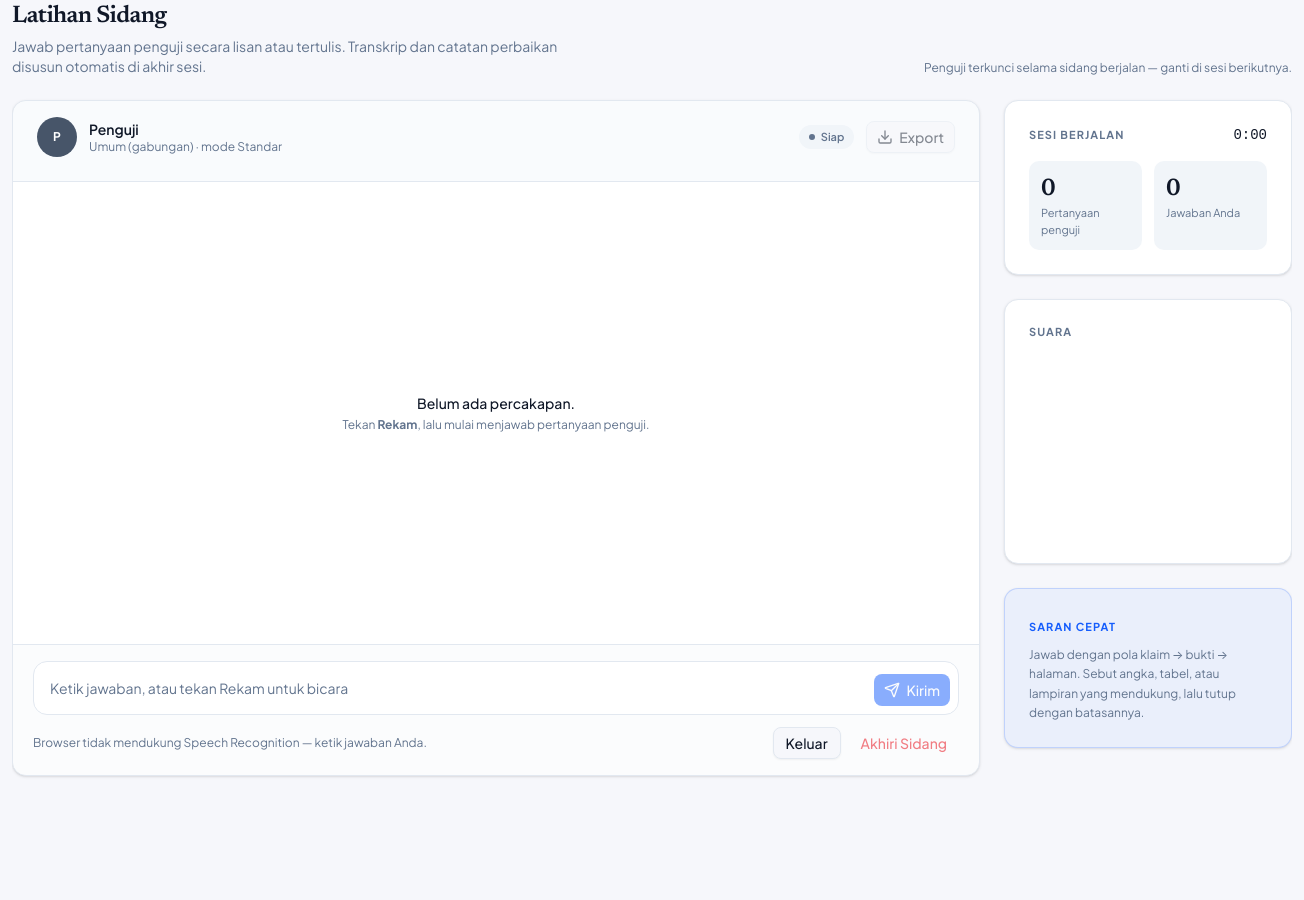
SessionPage › surfaces a send failure as a banner above the page heading
In the text box with placeholder "Ketik jawaban, atau tekan Rekam untuk bicara": [454, 688] box [42,670,866,706], type "x"
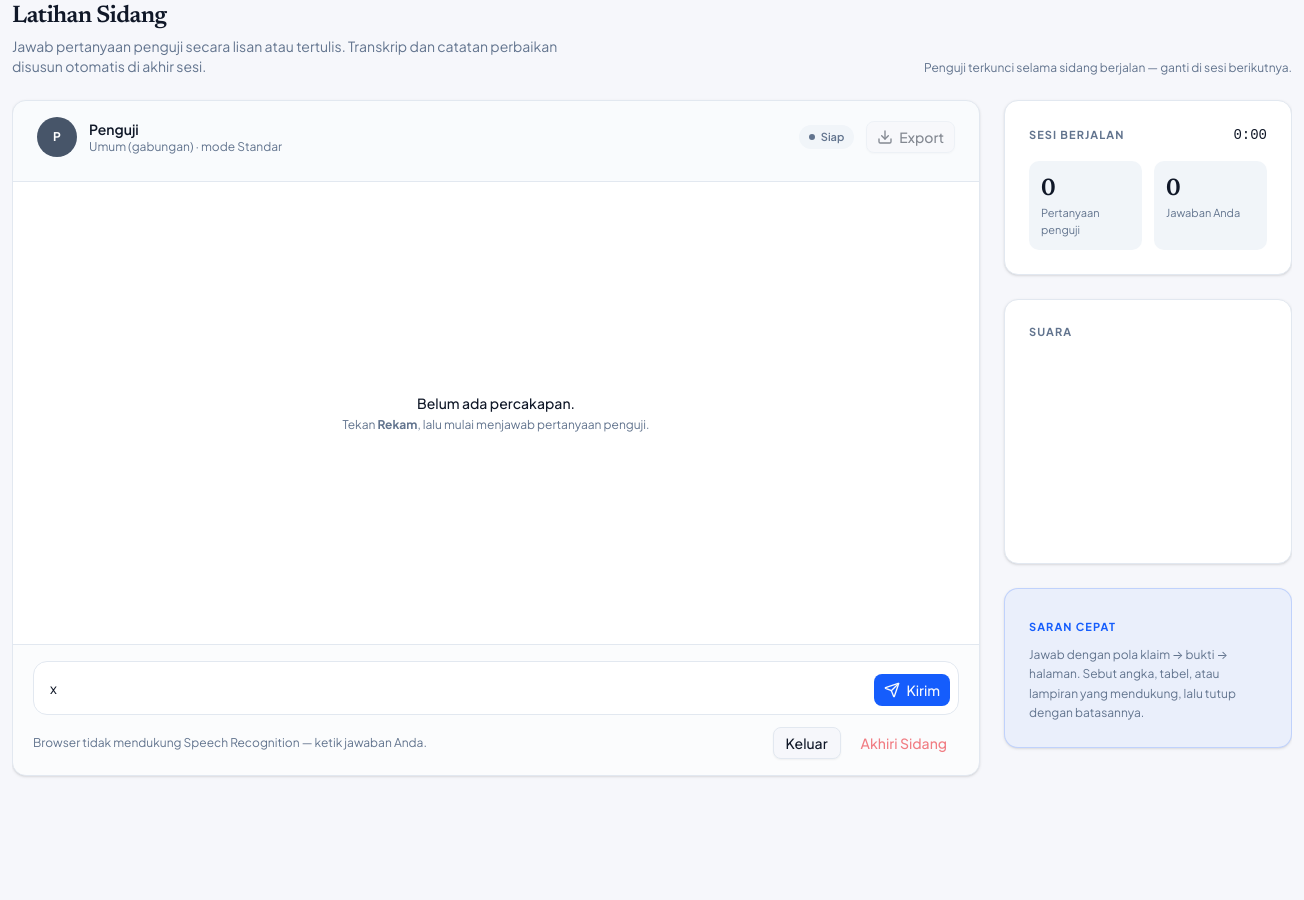
Click the button "Kirim": [912, 690] box [874,674,950,706]
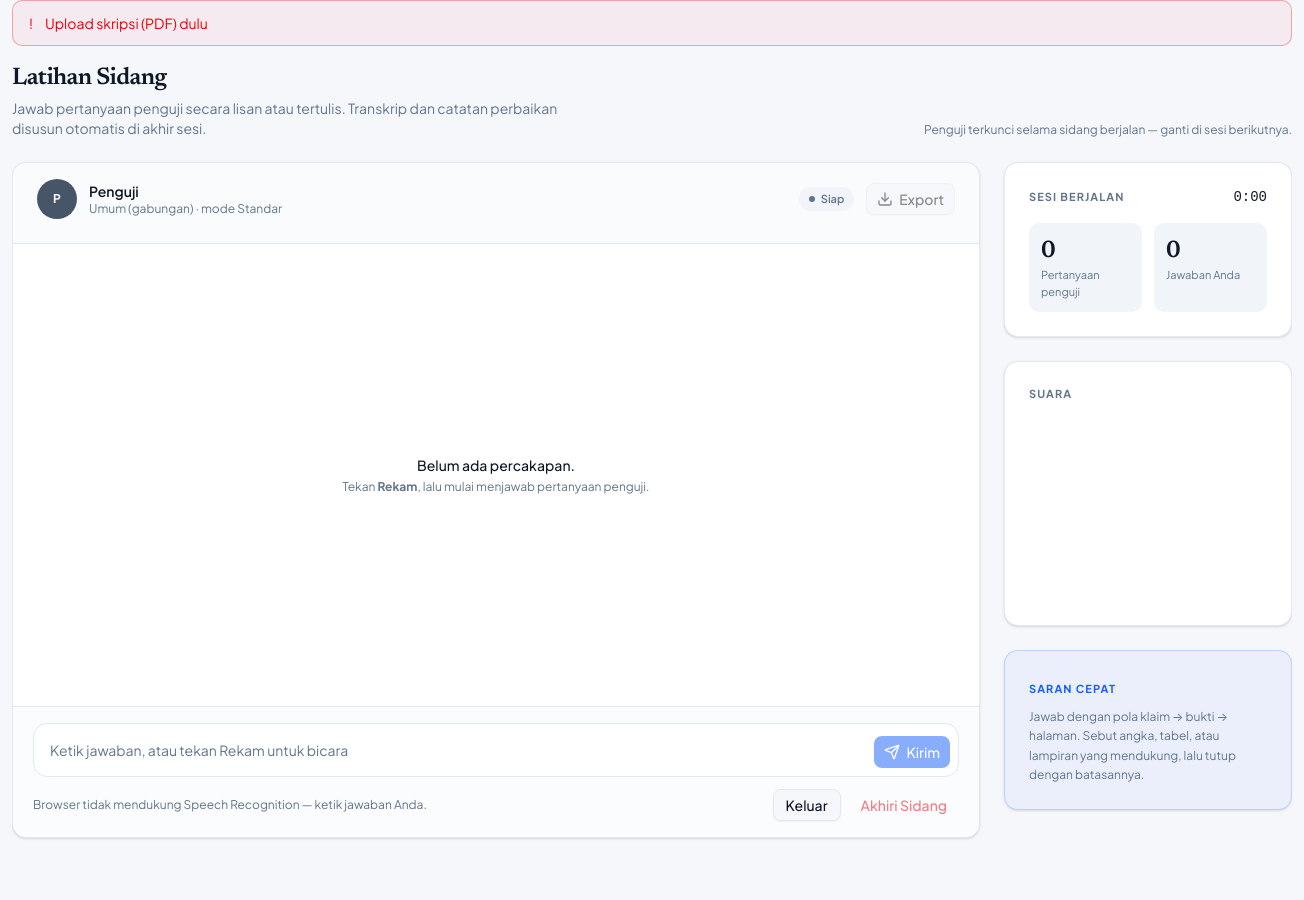
expect the message shows "Upload skripsi (PDF) dulu": met, box [45,14,208,32]
expect the element with class "danger" is shown: met, box [12,0,1292,46]
